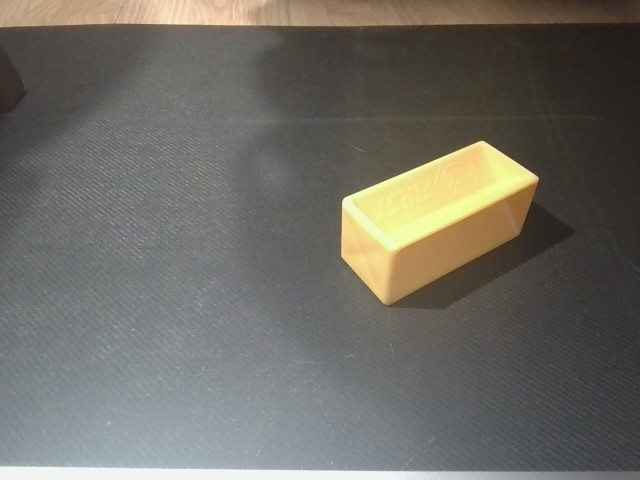YellowSample: (334, 137, 545, 309)
